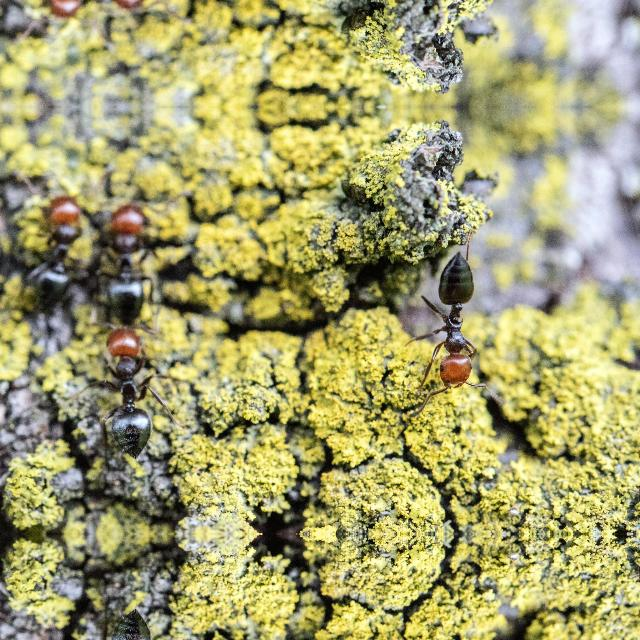Crematogaster: (89, 324, 165, 458), (416, 256, 486, 386), (99, 194, 159, 336), (30, 192, 90, 304), (89, 608, 165, 640)
